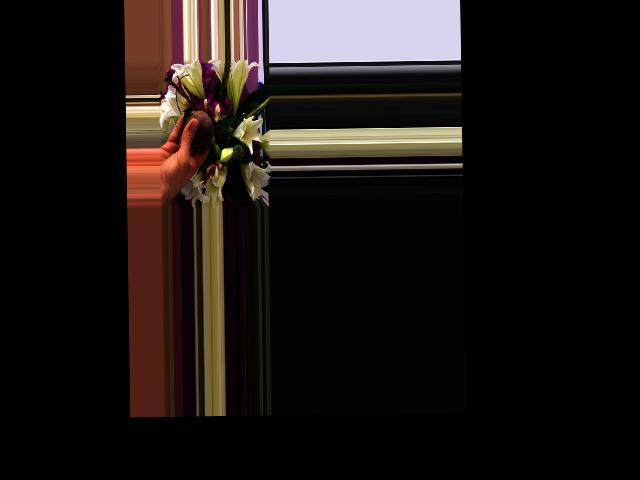beet: (183, 106, 220, 159)
